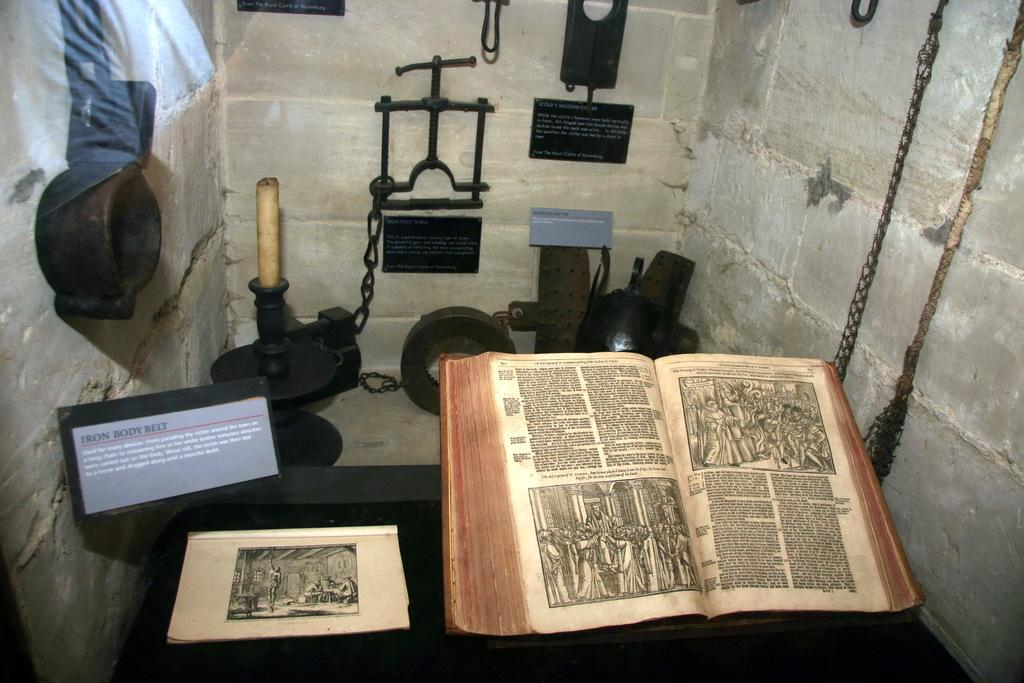book: (436, 345, 934, 635)
